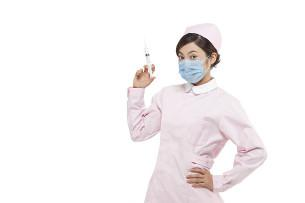OK: (177, 49, 212, 84)
